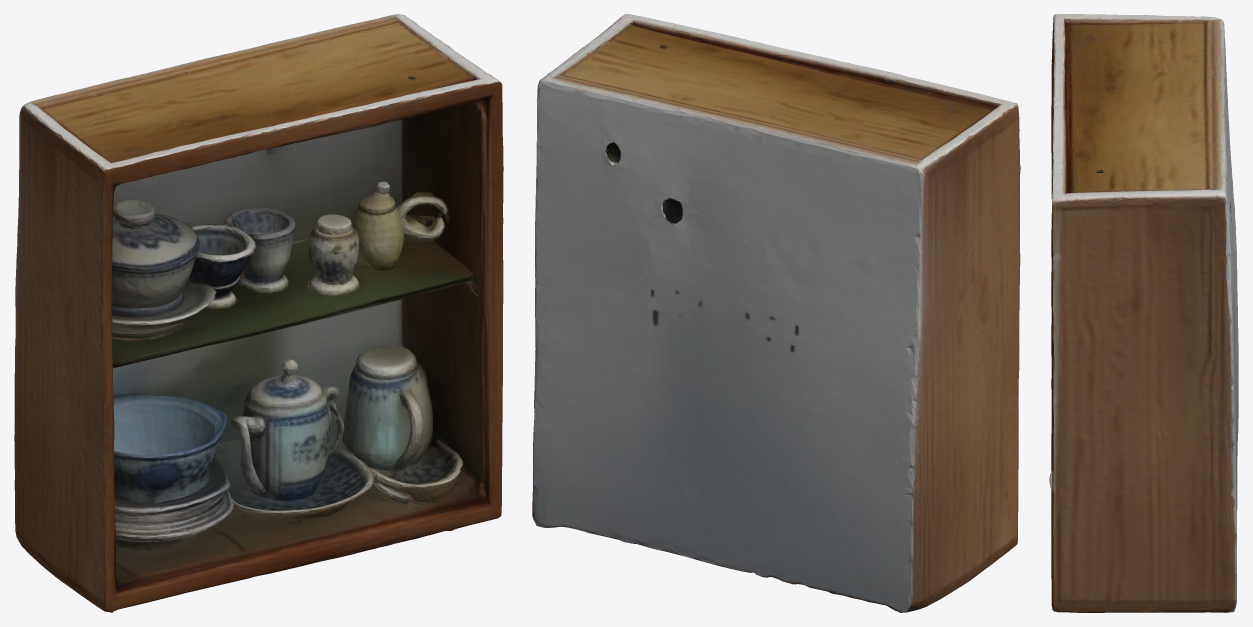
File: ast_ed2d44e09f94.glb
The picture shows the model from 3 angles, left to right: view 1: azimuth 30°, elevation 25°; view 2: azimuth 150°, elevation 25°; view 3: azimuth 270°, elevation 25°; orthographic projection. The views are drawn at different scales.
Parts seen in each view (by area): view 1: geometry_0; view 2: geometry_0; view 3: geometry_0.
Boxes of the visible parts, x1=… form: geometry_0: x1=14, y1=14, x2=503, y2=612; geometry_0: x1=532, y1=14, x2=1020, y2=612; geometry_0: x1=1049, y1=14, x2=1238, y2=612.
Bounding box in the file's own units: 0.9192 × 0.984 × 0.401.
1 material, 1 textured.
